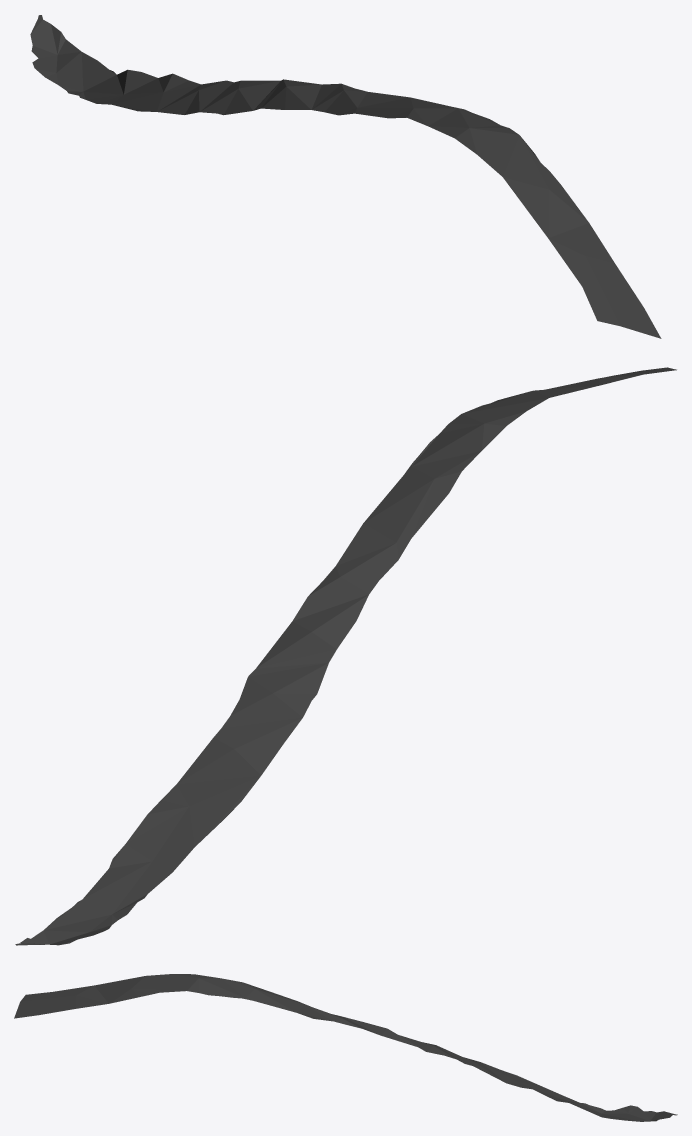
Rendered from nerve_lat_palm_dig_palmar.glb.
The picture shows the model from 3 angles, top to bottom: view 1: azimuth 30°, elevation 25°; view 2: azimuth 150°, elevation 25°; view 3: azimuth 270°, elevation 25°; orthographic projection. The views are drawn at different scales.
Parts seen in each view (by area): view 1: nerve_lat_palm_dig_palmar; view 2: nerve_lat_palm_dig_palmar; view 3: nerve_lat_palm_dig_palmar.
Boxes of the visible parts, left/top/right/bottom form: nerve_lat_palm_dig_palmar: left=30, top=15, right=661, bottom=338; nerve_lat_palm_dig_palmar: left=15, top=367, right=676, bottom=945; nerve_lat_palm_dig_palmar: left=14, top=974, right=677, bottom=1121.
Size of the model in its own units: 0.00624 by 0.0159 by 0.0718.
1 material, 1 textured.
